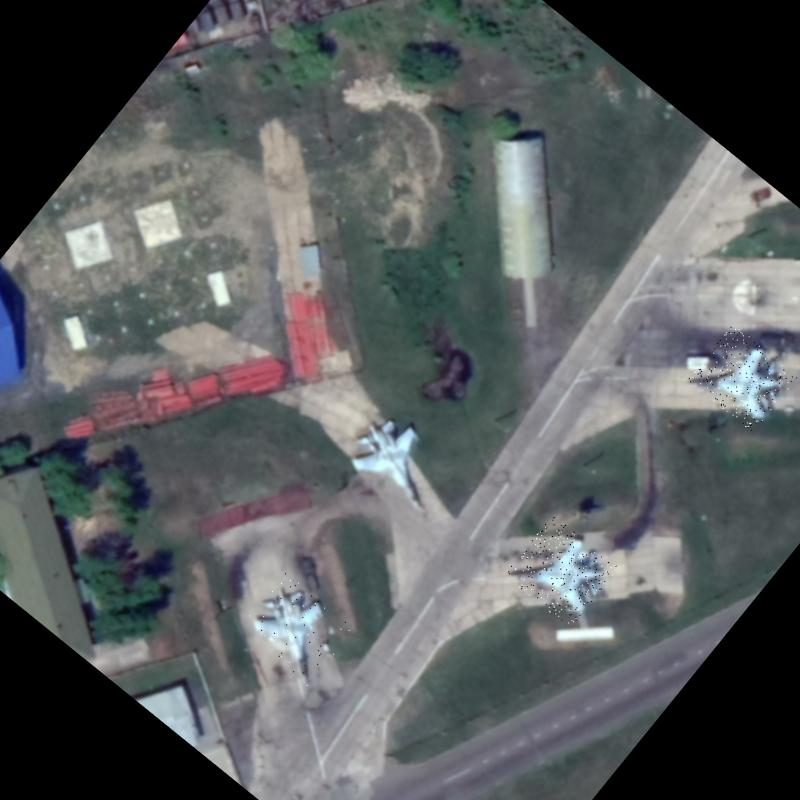A1: (338, 401, 458, 517), (237, 572, 354, 688), (503, 514, 618, 628), (686, 322, 798, 432)
